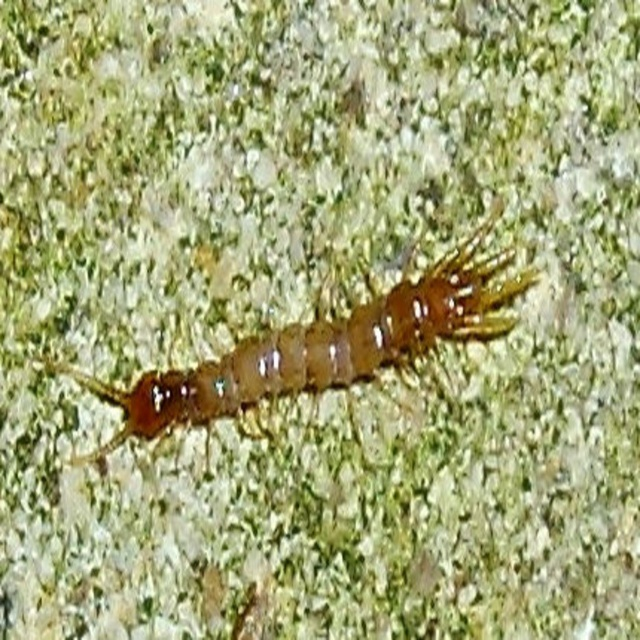Centipede: (51, 204, 537, 468)
